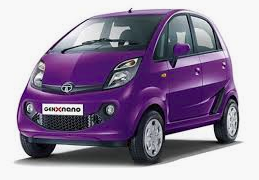car: (16, 6, 241, 167)
